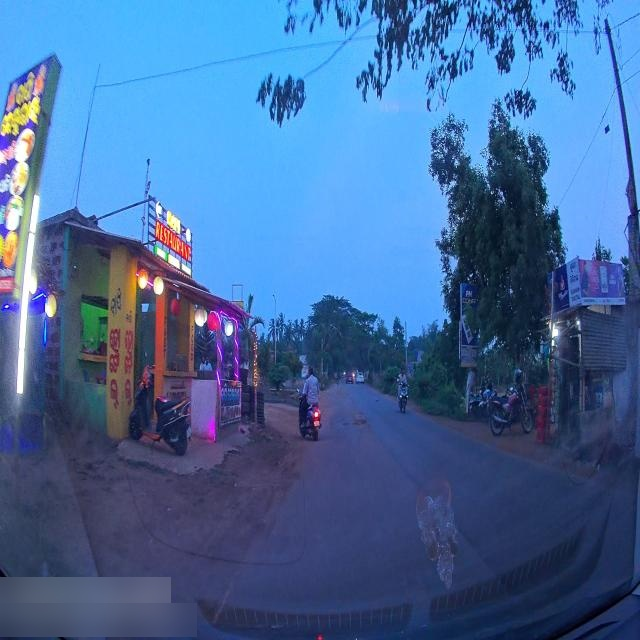pothole: (354, 417, 366, 423), (344, 422, 349, 427)
